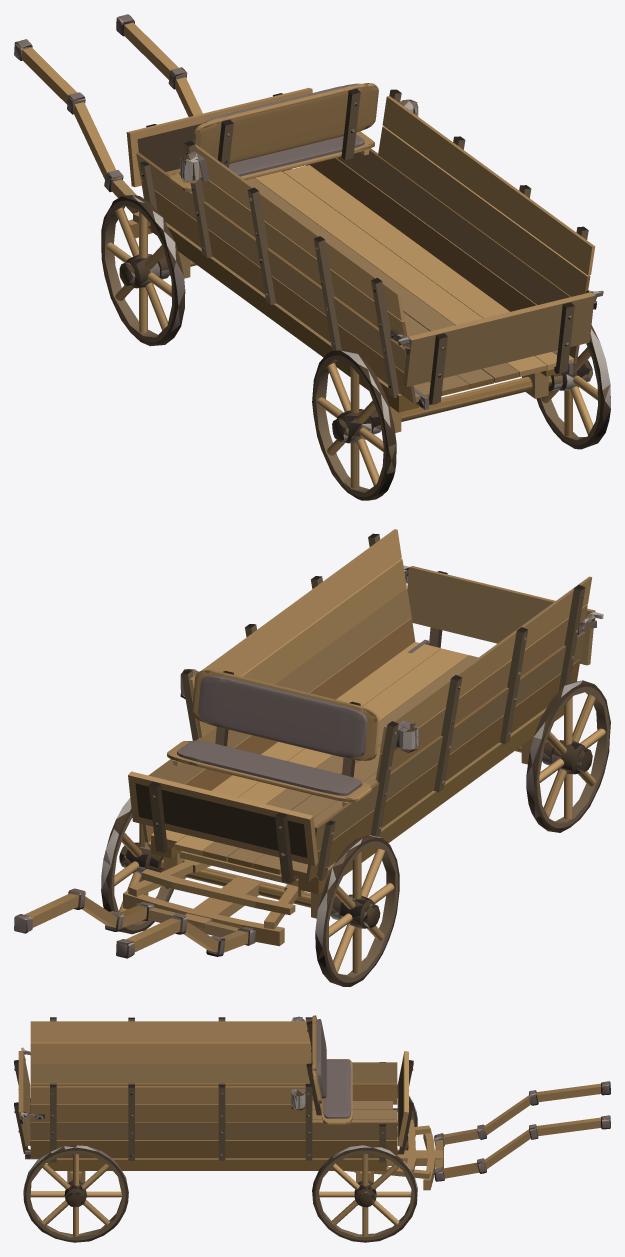
Rendered from farm-wagon.glb.
3 renders of one model, top to bottom at view 1: azimuth 30°, elevation 25°; view 2: azimuth 150°, elevation 25°; view 3: azimuth 270°, elevation 25°, orthographic. The views are drawn at different scales.
Visible parts, largest first — view 1: carriage_16; view 2: carriage_16; view 3: carriage_16.
Part boxes in pixels (x1=…): carriage_16: x1=14, y1=14, x2=610, y2=500; carriage_16: x1=14, y1=529, x2=610, y2=986; carriage_16: x1=14, y1=1015, x2=610, y2=1242.
Bounding box in the file's own units: 1.86 × 1.69 × 5.57.
